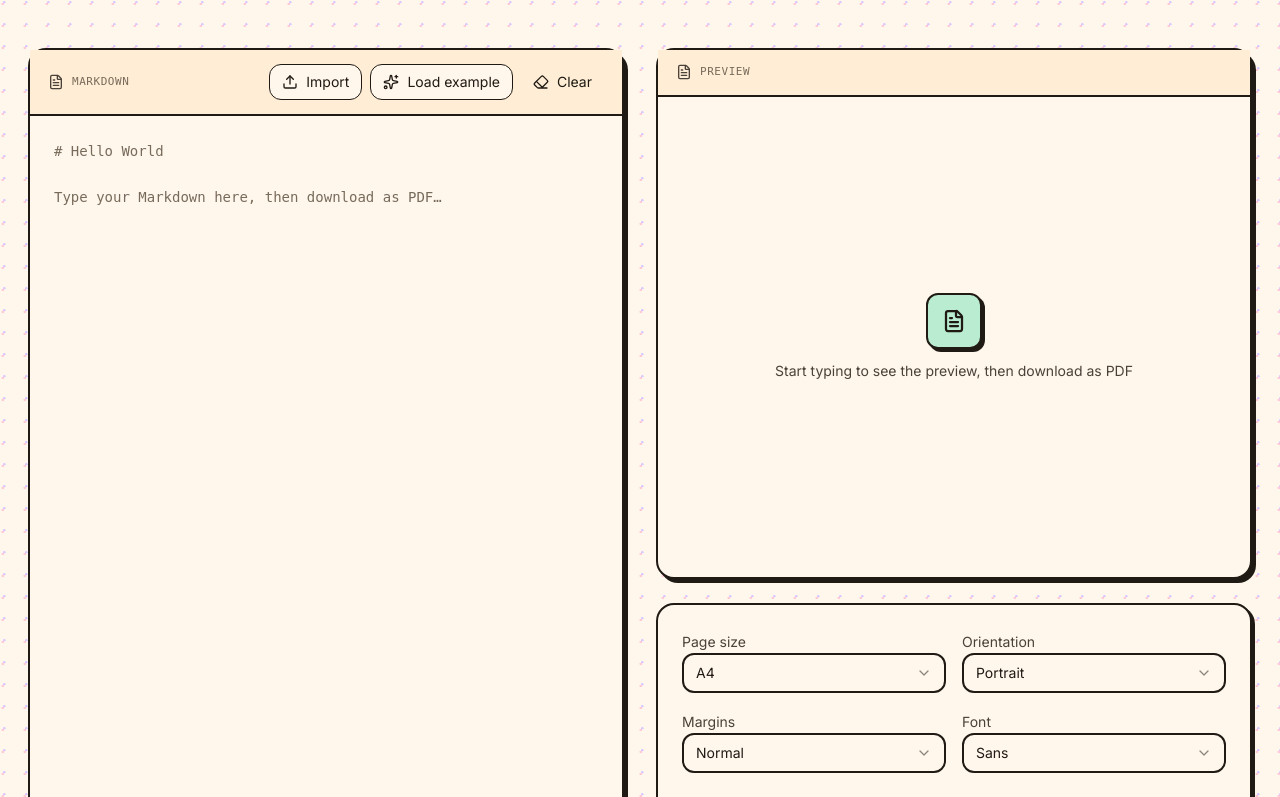
MarkdownToPdfRoute › clears the document title along with the editor on Clear
This screenshot has width=1280, height=797.
What coordinates should you click on to do the following:
click the button with test id "load-example"
I would click on:
 (442, 82)
Its box is [370,64,513,100].
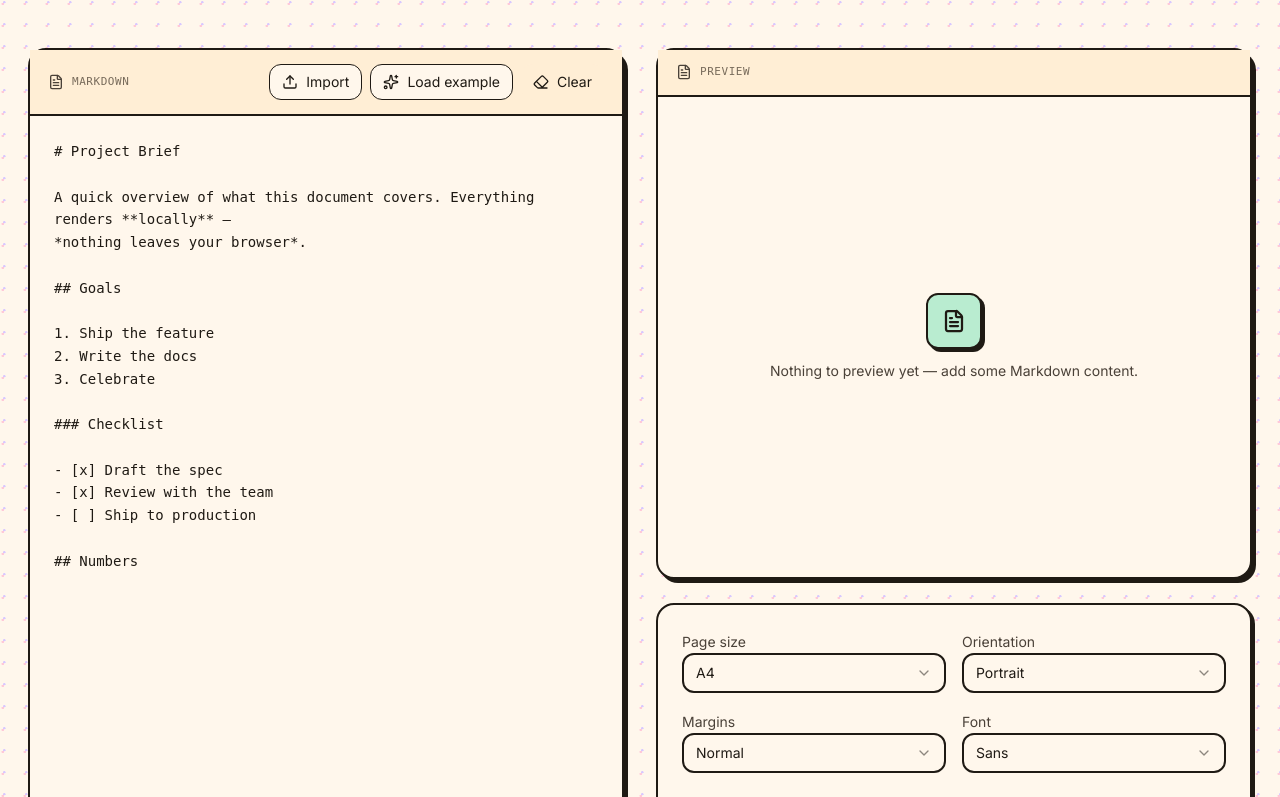
What coordinates should you click on to do the following:
click the button "Clear"
I would click on:
 (562, 82)
Its box is [521,64,604,100].
(page scrolled)
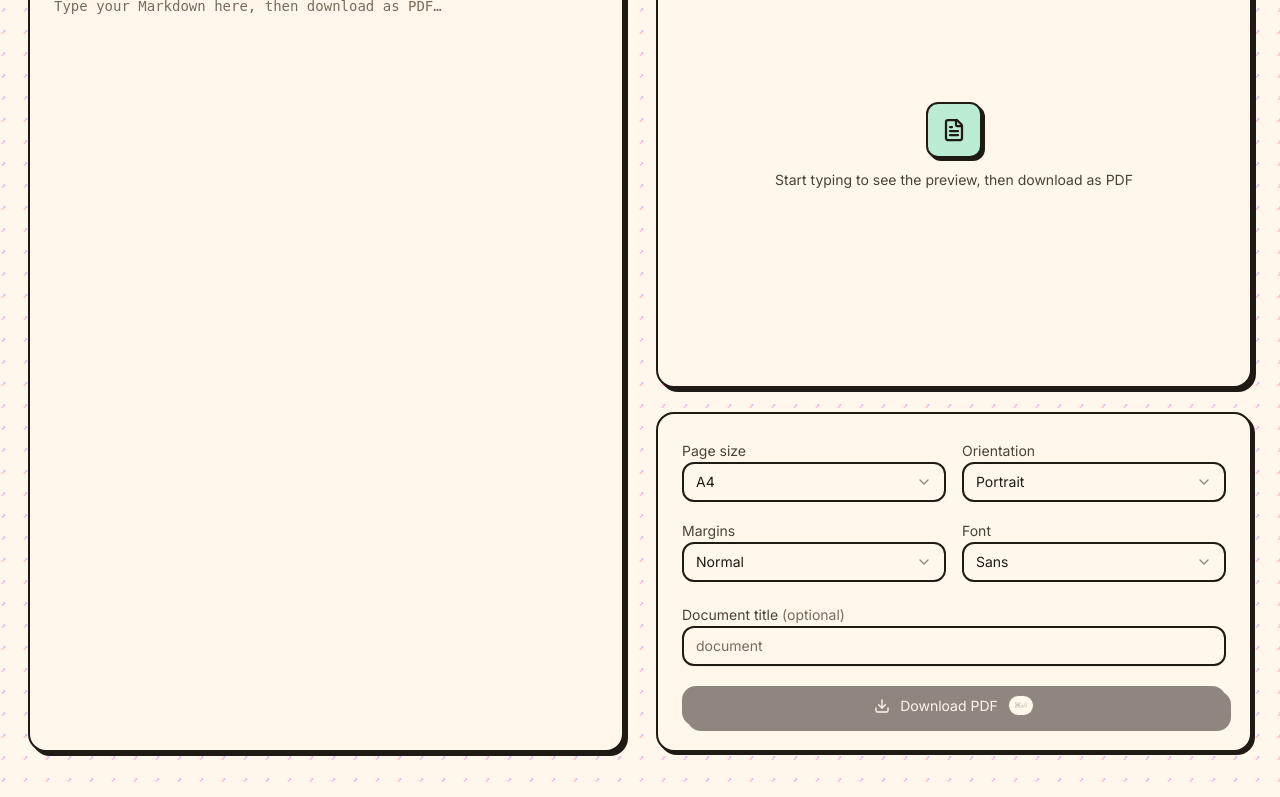
Expected: the field with test id "doc-title" is empty, [682,626,1226,666]
